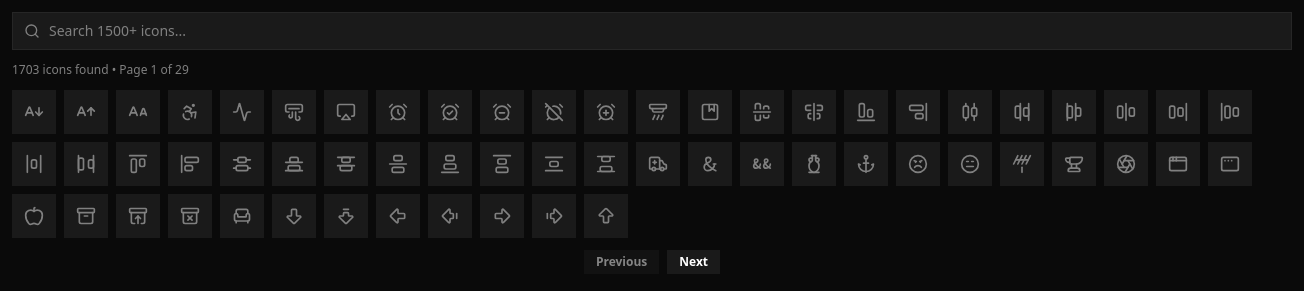
Test: IconSelector Component › filters icons when searching
In the field with placeholder "Search 1500+ icons...": (652, 31) [12,12,1292,50], type "heart"
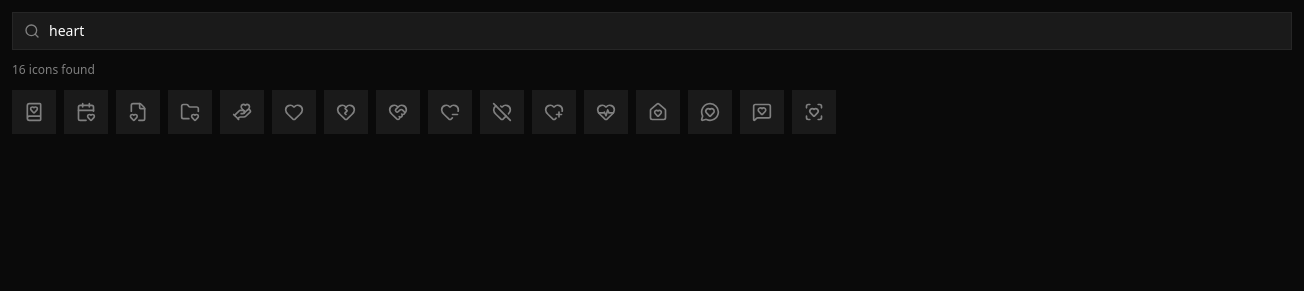
Expected: the text "16 icons found" is shown, [12,61,95,78]
Now the button named "heart" is shown, box [272,90,316,134]
